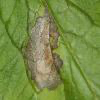Potato leaf late blight: (1, 0, 99, 99)
